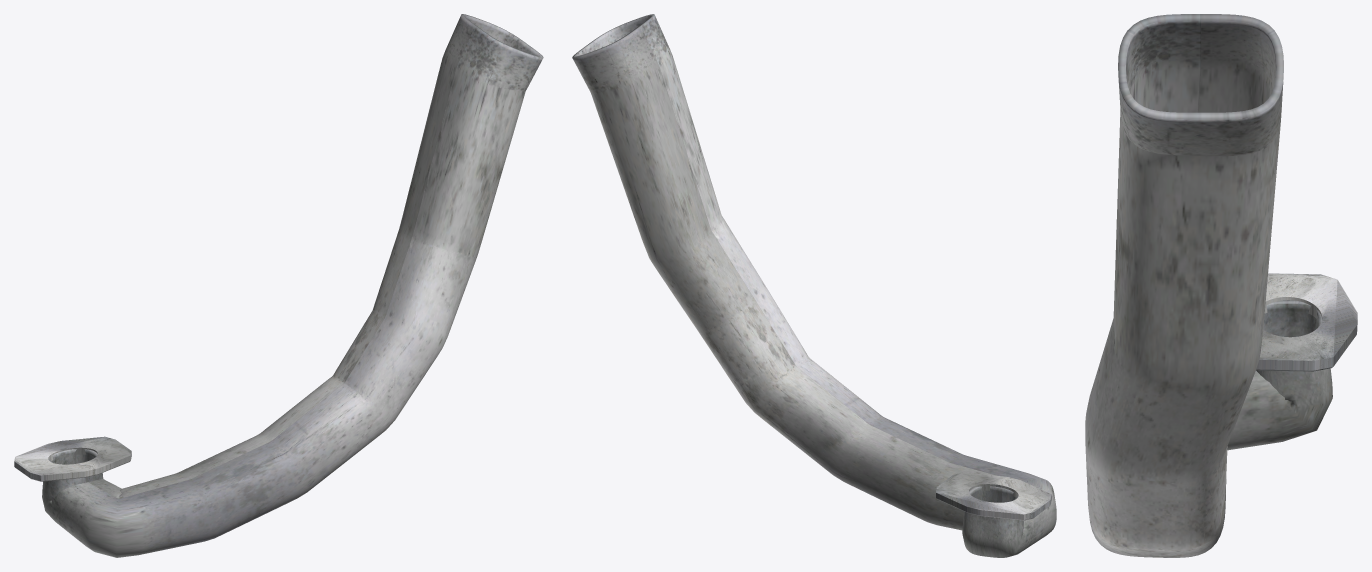
The model's file is turboBig_exhaust_inlet_tube.obj.
3 views of the same model, side by side, from view 1: azimuth 30°, elevation 25°; view 2: azimuth 150°, elevation 25°; view 3: azimuth 270°, elevation 25° (orthographic). The views are drawn at different scales.
Parts seen in each view (by area): view 1: TurboBig-Exhaust-Inlet-Tube___NurbsPath.004, TurboBig-Exhaust-Inlet-Tube-Header-Connector_Plane.007; view 2: TurboBig-Exhaust-Inlet-Tube___NurbsPath.004, TurboBig-Exhaust-Inlet-Tube-Header-Connector_Plane.007; view 3: TurboBig-Exhaust-Inlet-Tube___NurbsPath.004, TurboBig-Exhaust-Inlet-Tube-Header-Connector_Plane.007.
Boxes of the visible parts, <box> form: TurboBig-Exhaust-Inlet-Tube___NurbsPath.004: <box>42,14,543,557</box>; TurboBig-Exhaust-Inlet-Tube-Header-Connector_Plane.007: <box>14,436,131,481</box>; TurboBig-Exhaust-Inlet-Tube___NurbsPath.004: <box>572,14,1056,557</box>; TurboBig-Exhaust-Inlet-Tube-Header-Connector_Plane.007: <box>936,472,1051,520</box>; TurboBig-Exhaust-Inlet-Tube___NurbsPath.004: <box>1085,14,1332,557</box>; TurboBig-Exhaust-Inlet-Tube-Header-Connector_Plane.007: <box>1256,273,1357,371</box>.
Bounding box in the file's own units: 0.3777 × 0.3203 × 0.1051.
